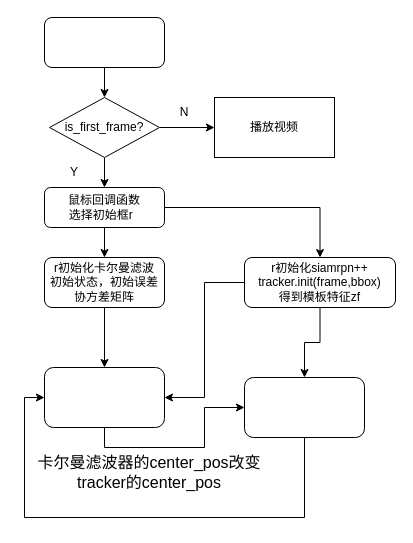
Some shapes in this 413 by 543 pixel diagram are drawn without their labels. Each missing label, with the centre of its shape:
tracker.track(frame): the point at 304,407
更新卡尔曼滤波器: the point at 104,397
读取视频: the point at 104,42
